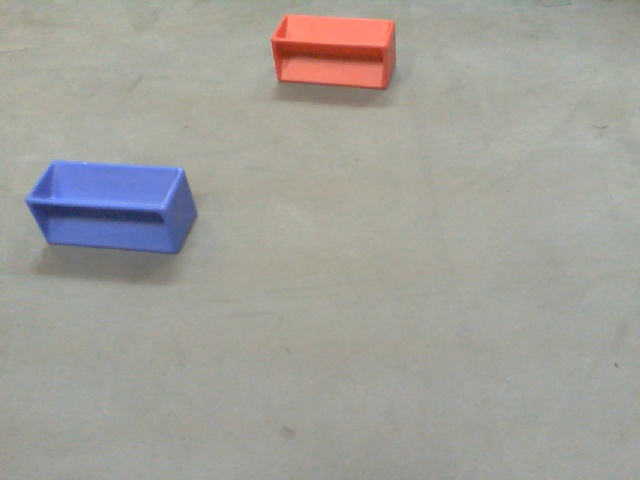BlueSample: (21, 160, 202, 254)
RedSample: (269, 10, 401, 100)
